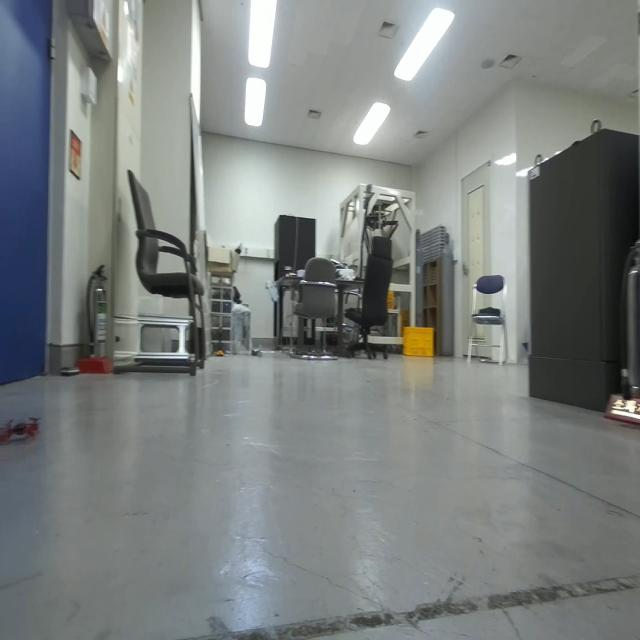crazyflie: (0, 413, 42, 445)
